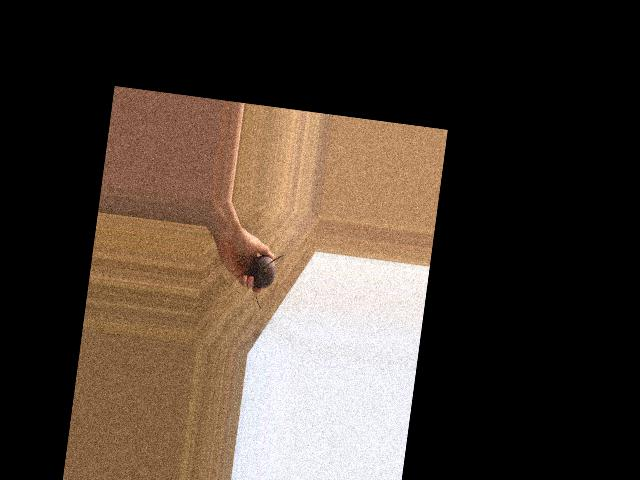beet: (244, 251, 283, 311)
